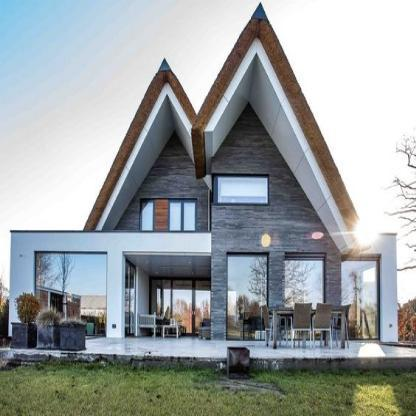Building Outline: (8, 0, 398, 342)
Door: (173, 279, 211, 336), (125, 257, 136, 336)
Facade: (8, 1, 398, 341)
Floor Slab: (12, 233, 341, 253)
Glass Wall: (36, 254, 106, 337), (227, 253, 268, 340), (285, 255, 325, 340), (342, 258, 381, 340), (152, 280, 171, 336)
Roof: (82, 1, 372, 256)
Window: (213, 176, 269, 203), (142, 201, 153, 229), (184, 203, 195, 230), (170, 203, 181, 230)
